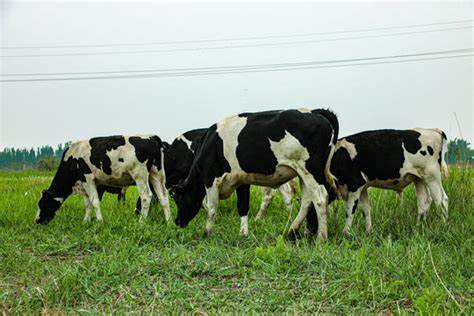MilkCow: (171, 101, 341, 230), (330, 116, 455, 235), (27, 128, 167, 228)
